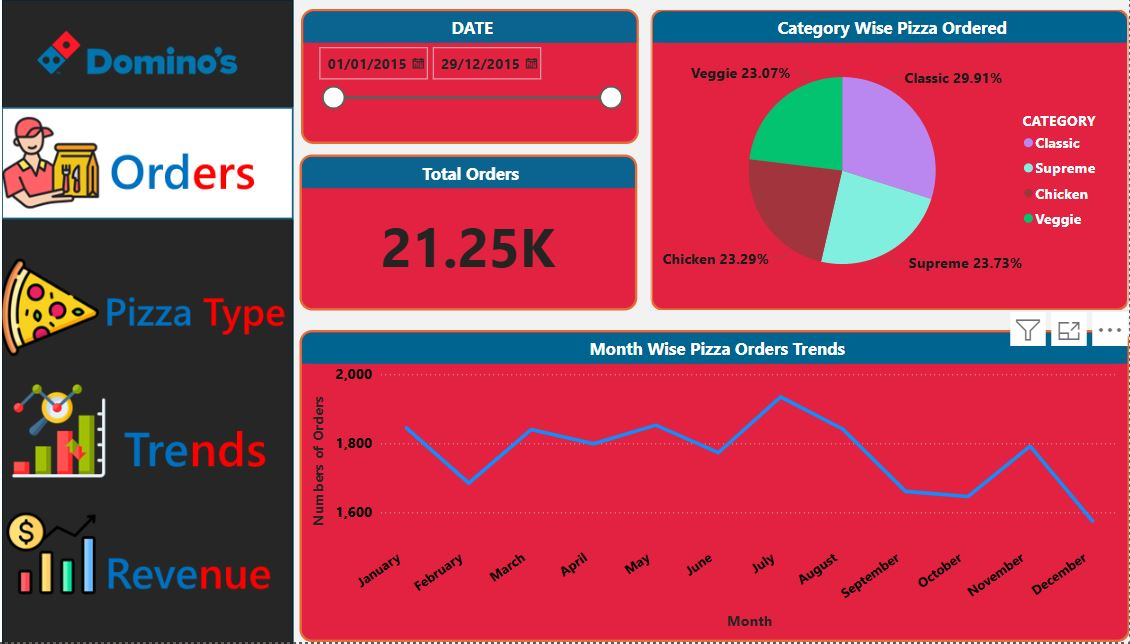

What the dashboard file says about the page in this screenshot:
{"tool":"powerbi","page":{"name":"Orders","canvas":[1280,720],"ordinal":0},"visuals":[{"type":"slicer","title":"DATE","fields":{"Values":["sales orders.ORDER_DATE"]},"box":[343.3,16.7,375,150],"z":0},{"type":"lineChart","title":"Month Wise Pizza Orders Trends","fields":{"Category":["sales orders.ORDER_DATE.Variation.Date Hierarchy.Month","sales orders.ORDER_DATE.Variation.Date Hierarchy.Day"],"Y":["CountNonNull(sales orders.ORDER_ID)"]},"box":[343.3,360,921.7,346.7],"z":1000},{"type":"pieChart","title":"Category Wise Pizza Ordered","fields":{"Category":["sales category_totalquanity.CATEGORY"],"Y":["Sum(sales category_totalquanity.TOTALQUANTITY)"]},"box":[733.3,16.7,531.7,335],"z":2000},{"type":"card","title":"Total Orders","fields":{"Values":["Count(sales orders.ORDER_ID)"]},"box":[343.3,178.3,375,173.3],"z":3000},{"type":"actionButton","box":[28.3,291.7,330,116.7],"z":4000},{"type":"actionButton","box":[28.3,430,330,116.7],"z":5000},{"type":"actionButton","box":[30,575,330,116.7],"z":6000}]}

Visuals, with their boxes in screenshot pixels (x1, y1, x2, y2), scaled from the page's 1280x720 canvas onto the 1130x644 screenshot:
"DATE" slicer: (303,15,634,149)
"Month Wise Pizza Orders Trends" lineChart: (303,322,1117,632)
"Category Wise Pizza Ordered" pieChart: (647,15,1117,315)
"Total Orders" card: (303,159,634,314)
actionButton: (25,261,316,365)
actionButton: (25,385,316,489)
actionButton: (26,514,318,619)
